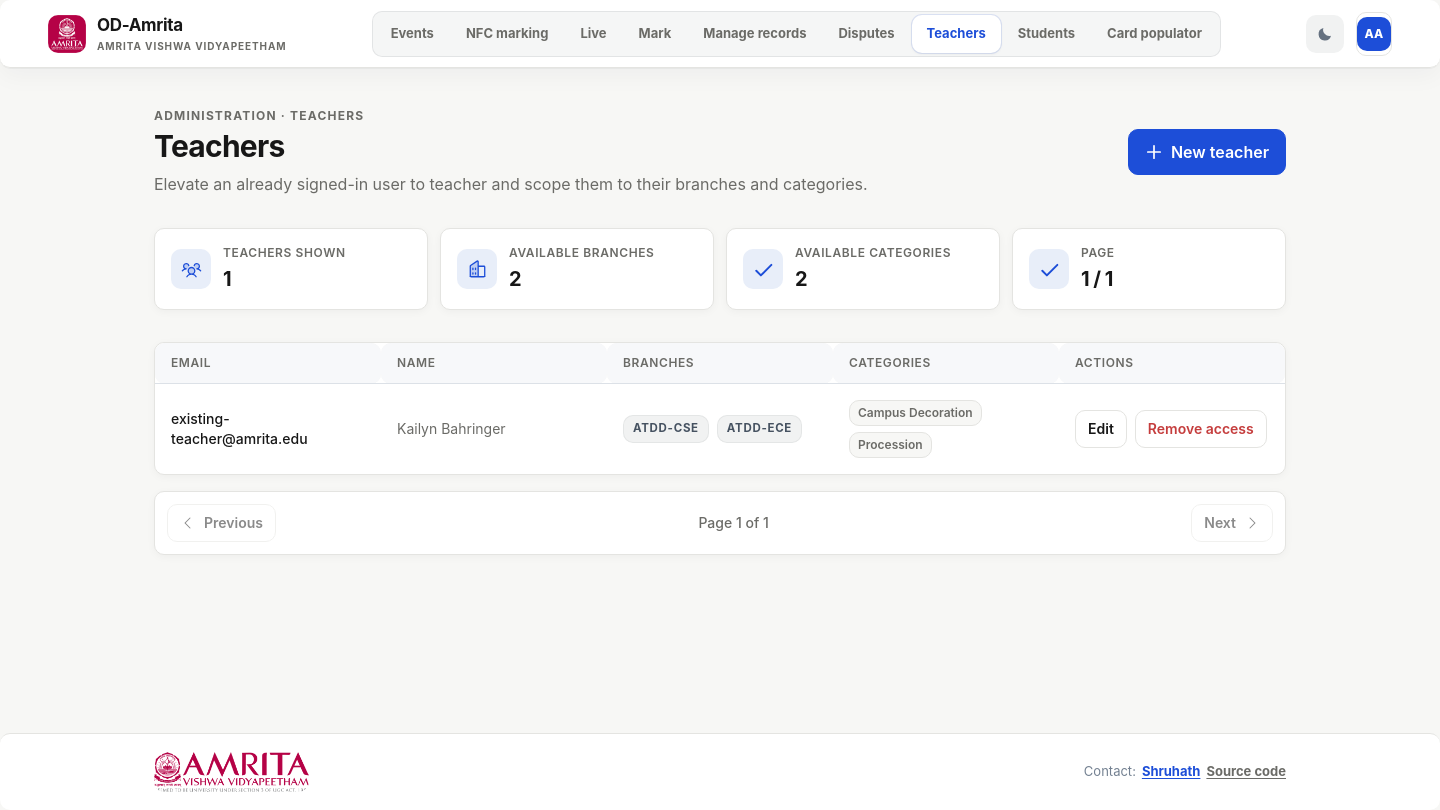
Test: Admin teachers portal composition (ATDD red phase) › [P1] maps a typed branch_ids field error onto the fieldset
The image size is (1440, 810).
Click the button "New teacher" at {"x": 1207, "y": 152}, box x1=1128 y1=129 x2=1286 y2=175
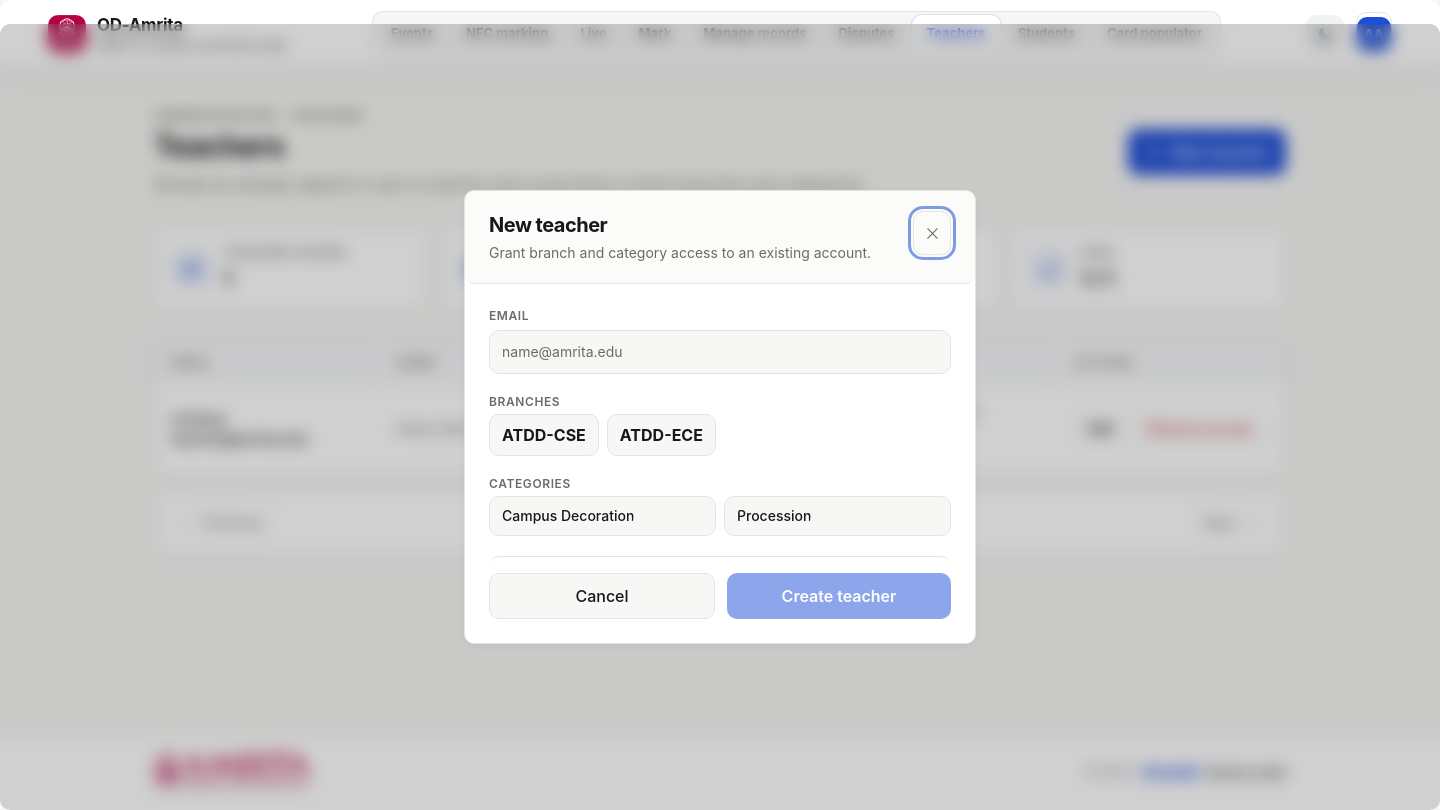
Type "duplicate-branch@amrita.edu" into the field labelled "Email" at {"x": 720, "y": 352}, box x1=489 y1=330 x2=951 y2=374
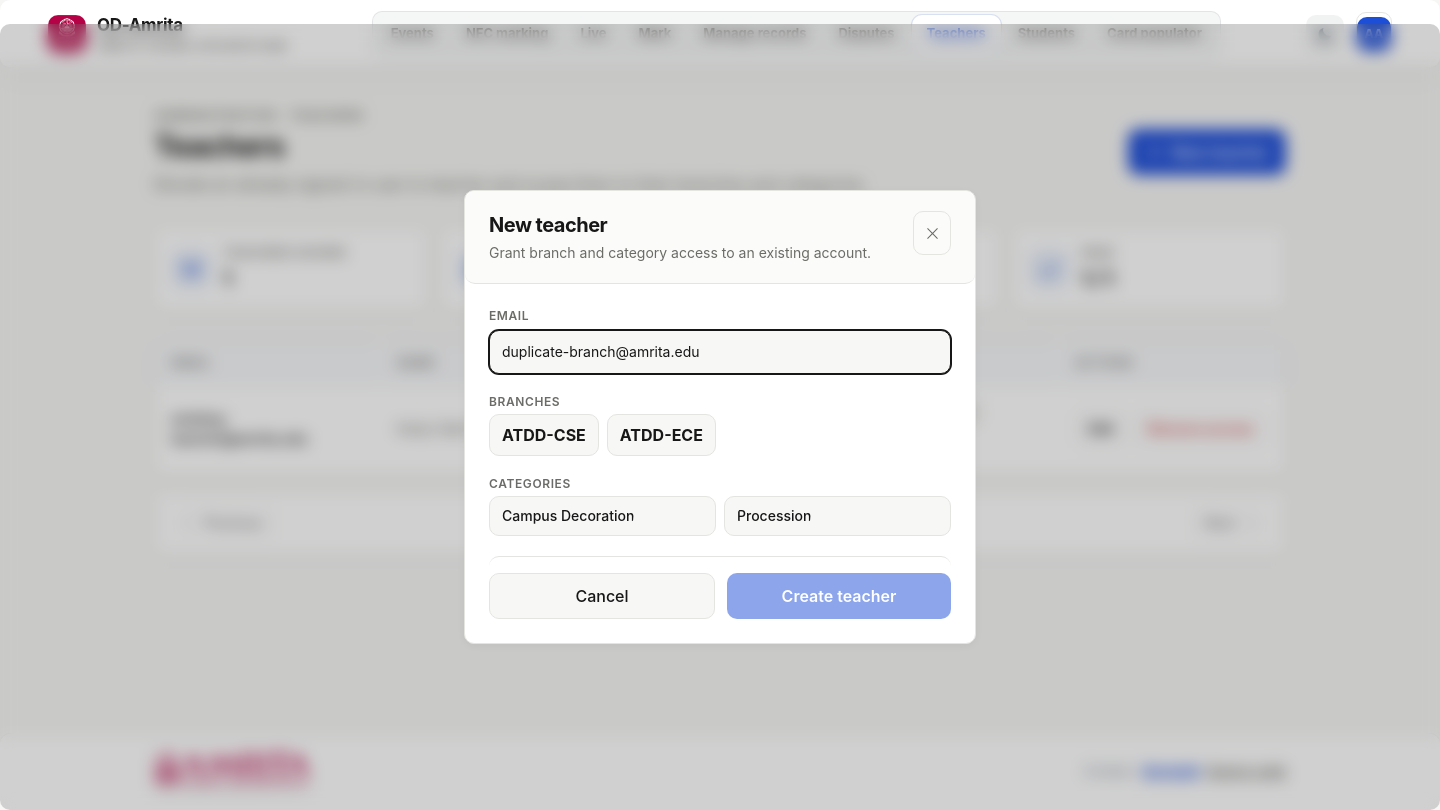
Click the checkbox named "Computer Science" at {"x": 544, "y": 435}, box x1=489 y1=414 x2=599 y2=456
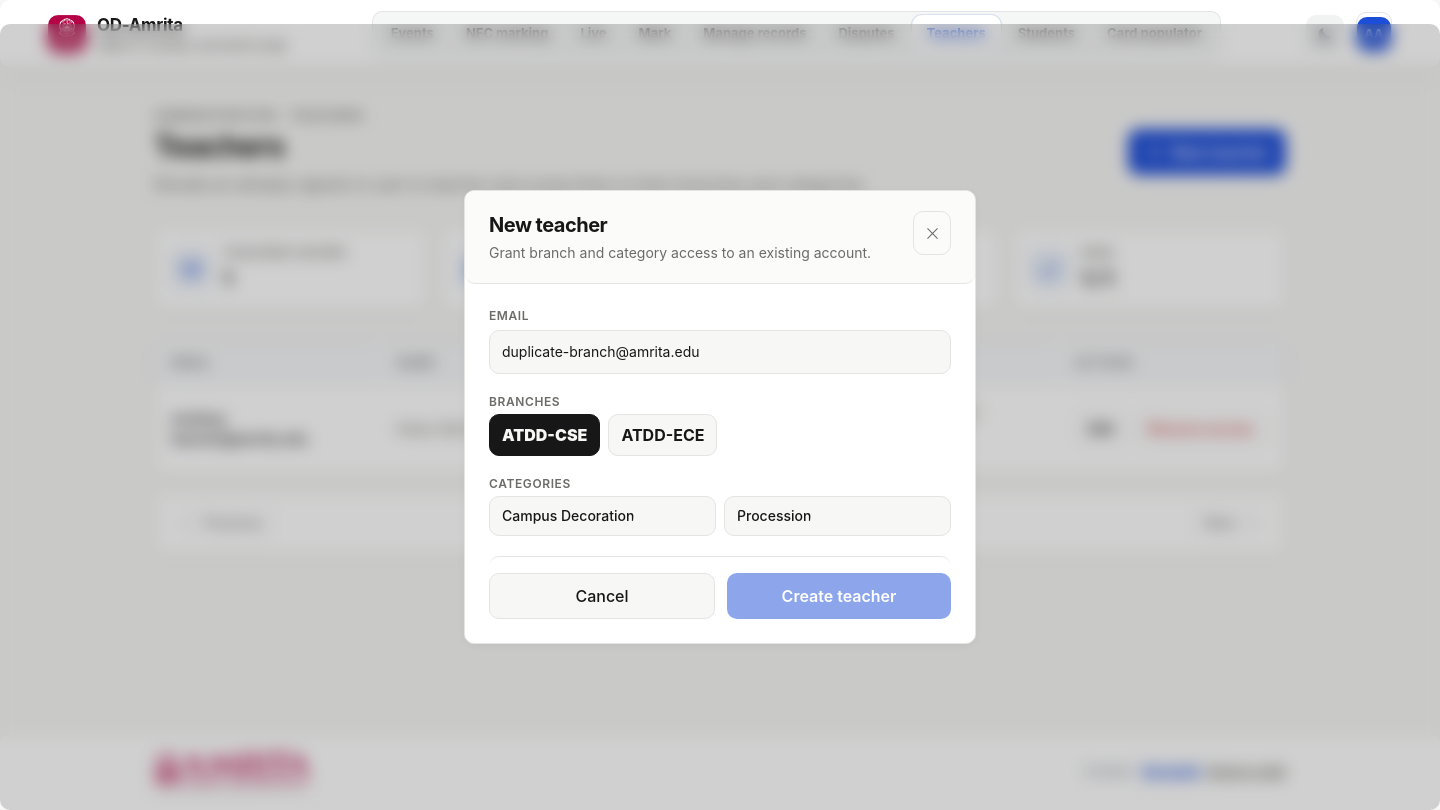
Click the checkbox labelled "Campus Decoration" at {"x": 602, "y": 516}, box x1=489 y1=496 x2=716 y2=536
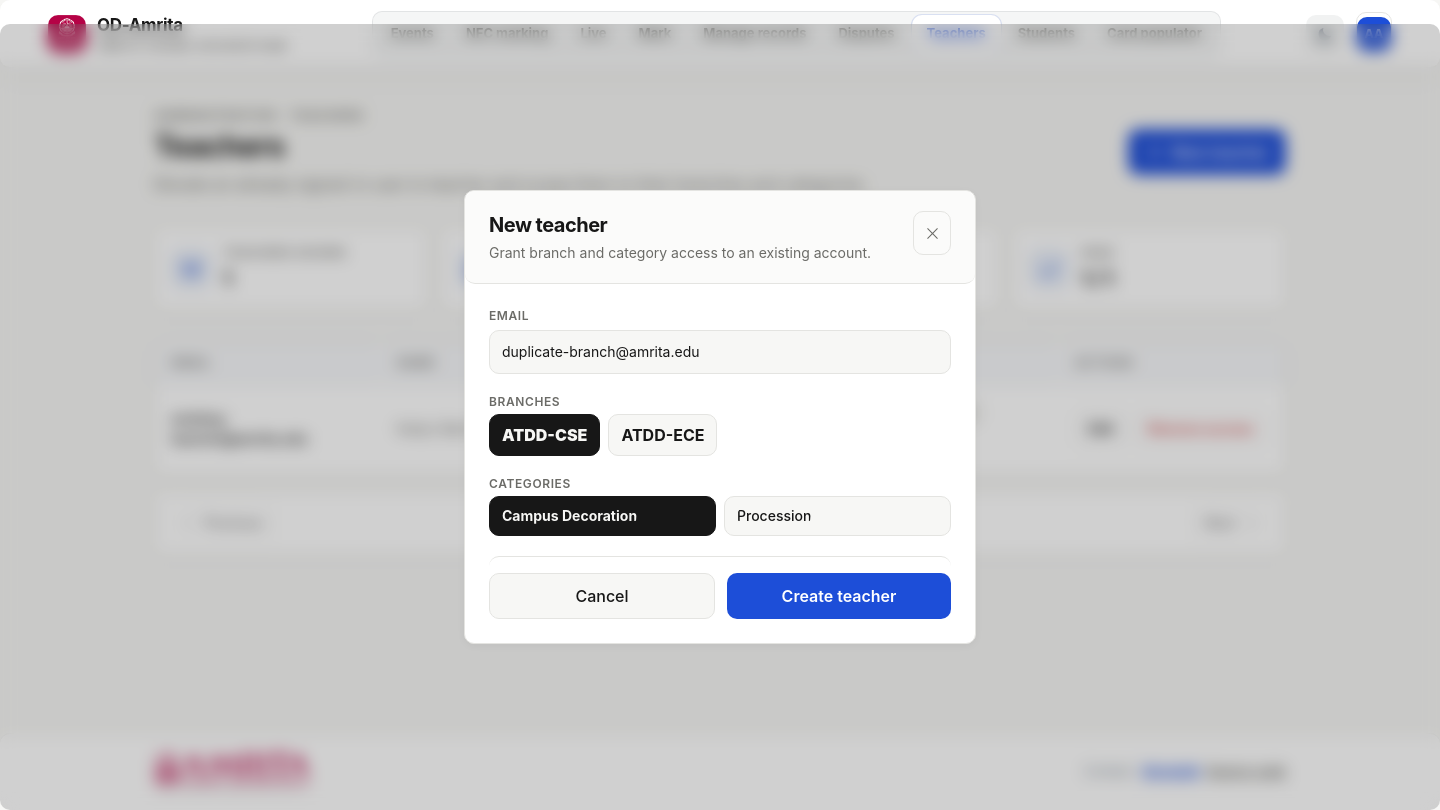
Click the button "Create teacher" at {"x": 839, "y": 596}, box x1=727 y1=573 x2=951 y2=619
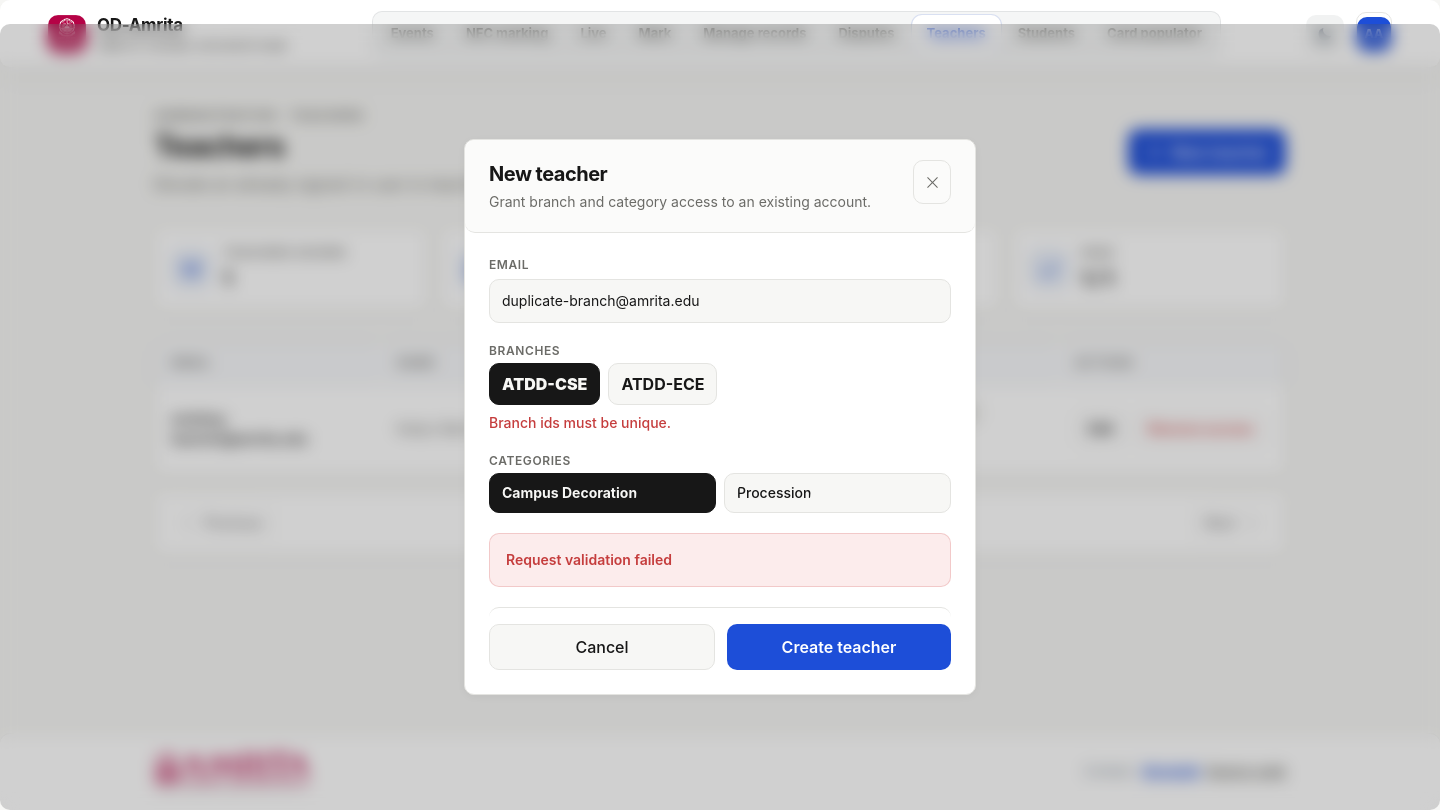
Expected: the text "Branch ids must be unique." is shown, x1=489 y1=414 x2=671 y2=431
